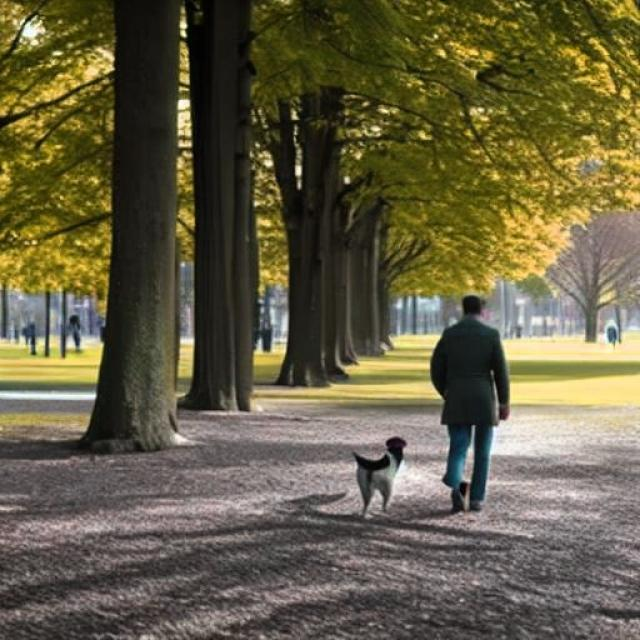Unleashed_Dog: (352, 388, 496, 516)
